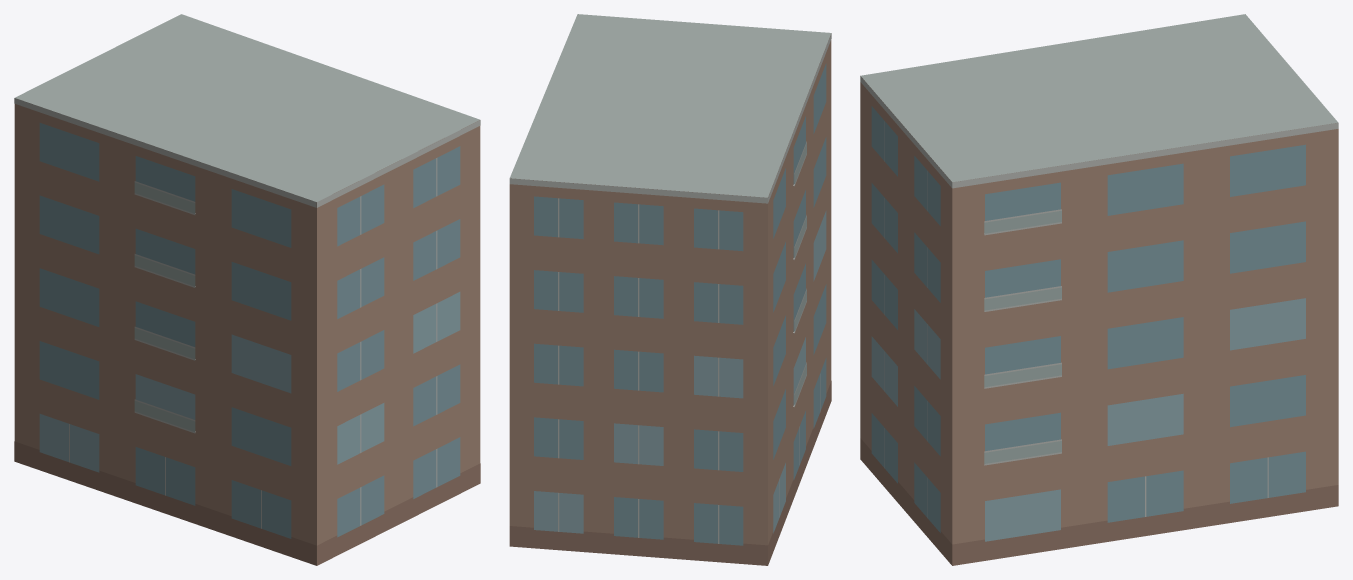
File: survey-upis-32576184.glb
3 views of the same model, side by side, from view 1: azimuth 30°, elevation 25°; view 2: azimuth 150°, elevation 25°; view 3: azimuth 270°, elevation 25° (orthographic). The views are drawn at different scales.
Visible parts, largest first — view 1: survey-upis-32576184.tmp; view 2: survey-upis-32576184.tmp; view 3: survey-upis-32576184.tmp.
Boxes of the visible parts, x1,y1,x2,y2 form: survey-upis-32576184.tmp: (14,14,480,565); survey-upis-32576184.tmp: (509,14,831,565); survey-upis-32576184.tmp: (860,14,1338,565).
Bounding box in the file's own units: 14.36 × 15.25 × 17.23.
